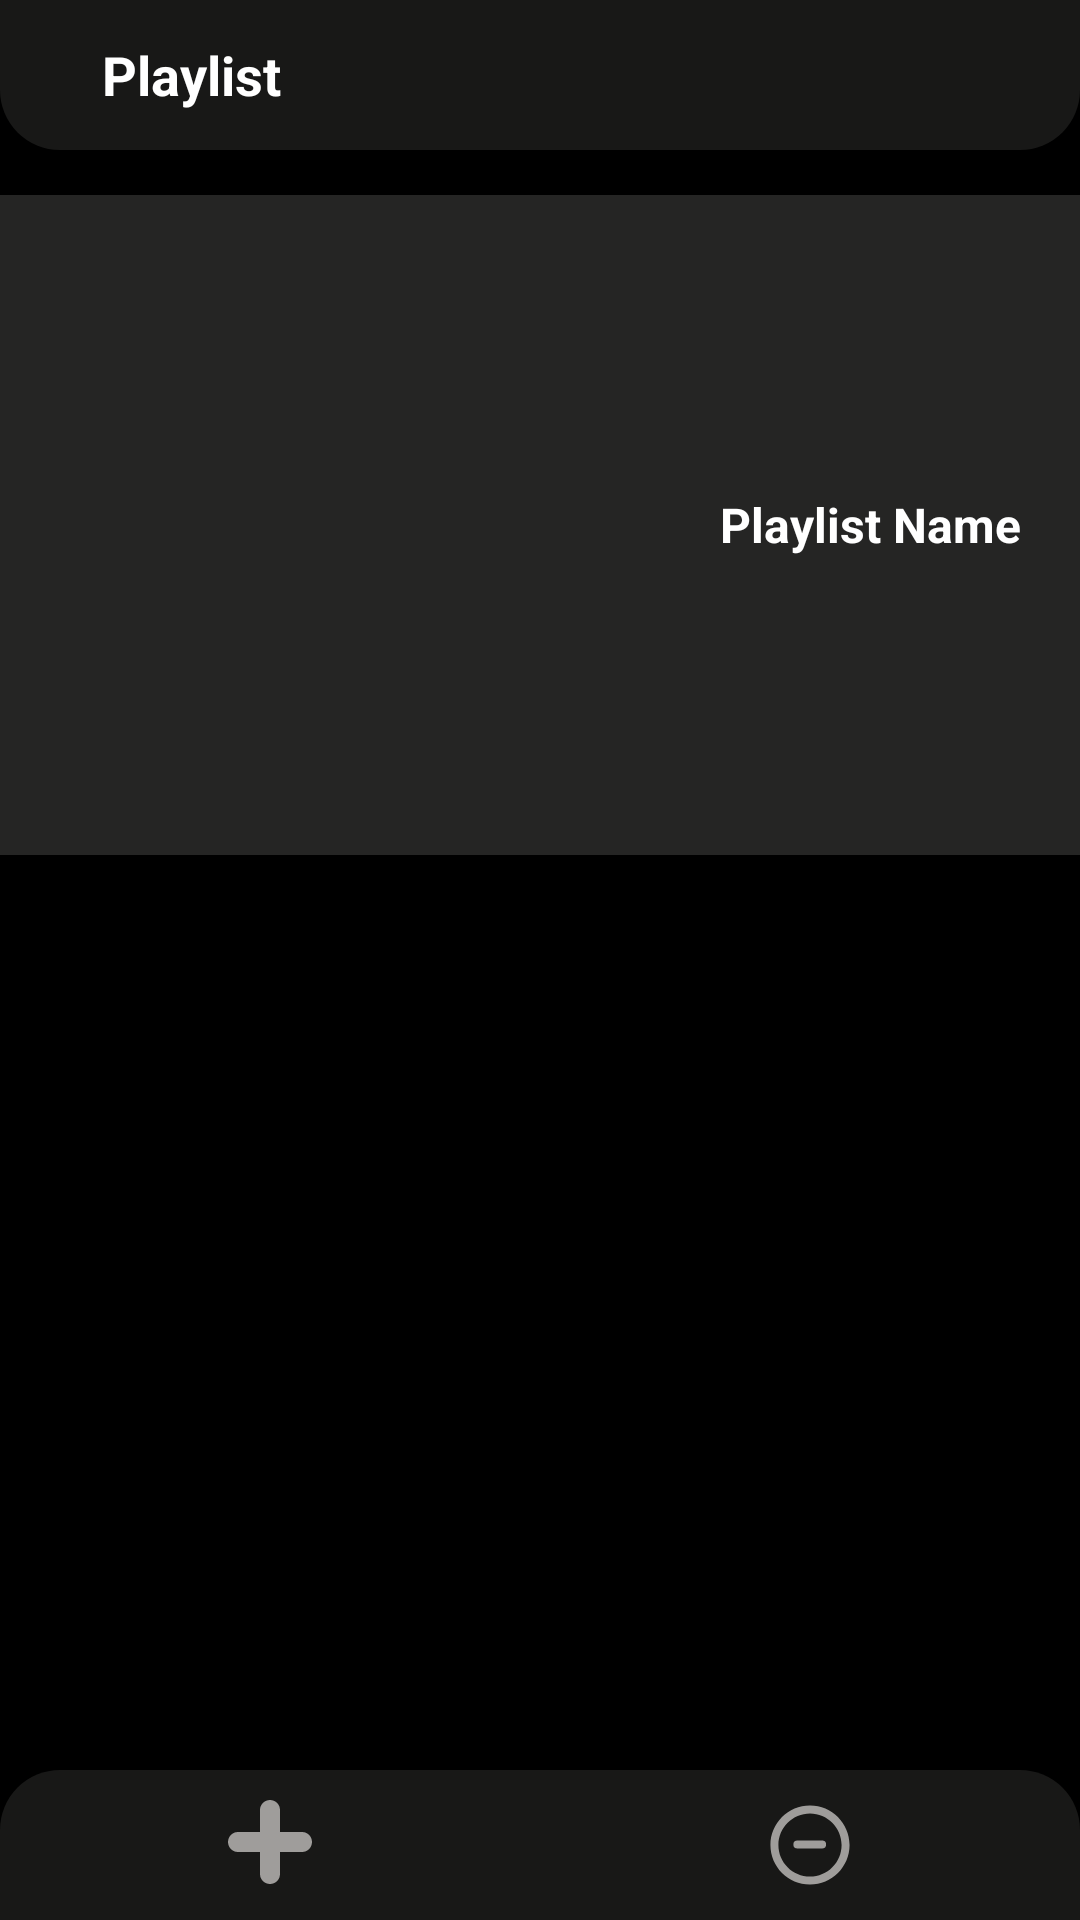

Icon click points for this 1080w x 1920h phone screenshot, format (x,y):
Add Song: (270,1842)
